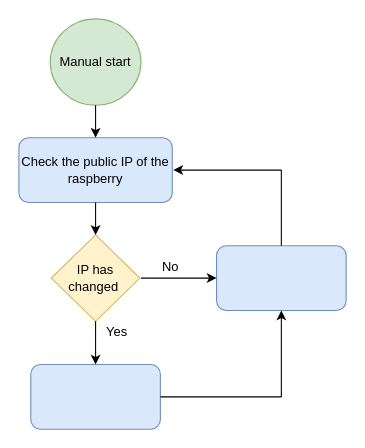
Image size: 365x448. Some labels were removed from this diagram. Each missing label, with the centre of its shape:
Send the new ip to the DNNS service: point 95,396
Wait for x minutes again: point 280,277
